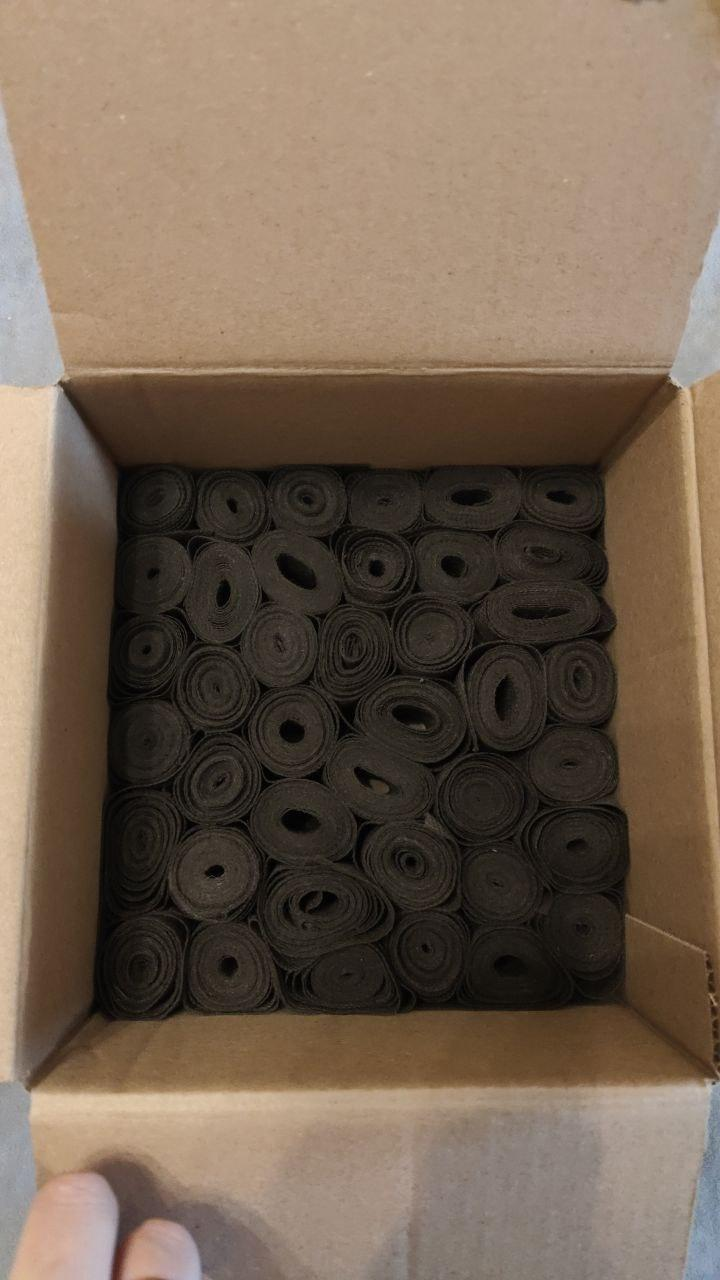roll: (255, 860, 384, 964), (354, 672, 470, 766), (323, 732, 437, 827), (357, 816, 465, 914), (458, 641, 551, 754), (100, 789, 186, 909), (248, 776, 358, 869), (163, 827, 264, 927), (99, 910, 189, 1021), (460, 922, 569, 1013), (477, 577, 609, 651), (526, 803, 632, 895), (182, 918, 279, 1018), (434, 751, 535, 846), (383, 906, 475, 1006), (523, 720, 625, 810), (250, 527, 346, 622), (171, 729, 264, 826), (246, 683, 339, 779), (294, 939, 405, 1018), (181, 539, 262, 646), (538, 887, 630, 981), (311, 601, 397, 700), (494, 518, 606, 592), (106, 695, 192, 788), (455, 840, 548, 926), (173, 644, 259, 736), (539, 636, 623, 729), (238, 601, 324, 691), (410, 526, 504, 608), (390, 592, 478, 678), (421, 463, 522, 535), (108, 610, 190, 697), (113, 532, 193, 620), (333, 526, 417, 609), (265, 462, 348, 538), (519, 464, 609, 534), (344, 466, 428, 539), (195, 468, 271, 544), (118, 462, 195, 537)
